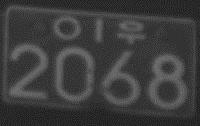0: (55, 45, 94, 104), (52, 13, 83, 41)
1: (88, 15, 111, 42)
2: (8, 42, 49, 100)
6: (100, 50, 140, 107)
8: (147, 52, 186, 109)
우: (117, 18, 146, 44)
